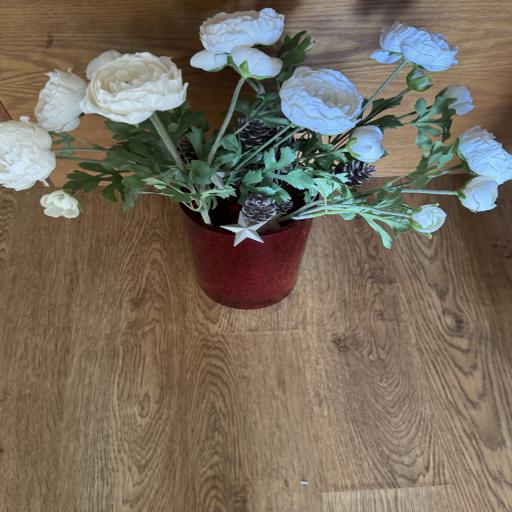Plant Pot: (178, 148, 314, 310)
